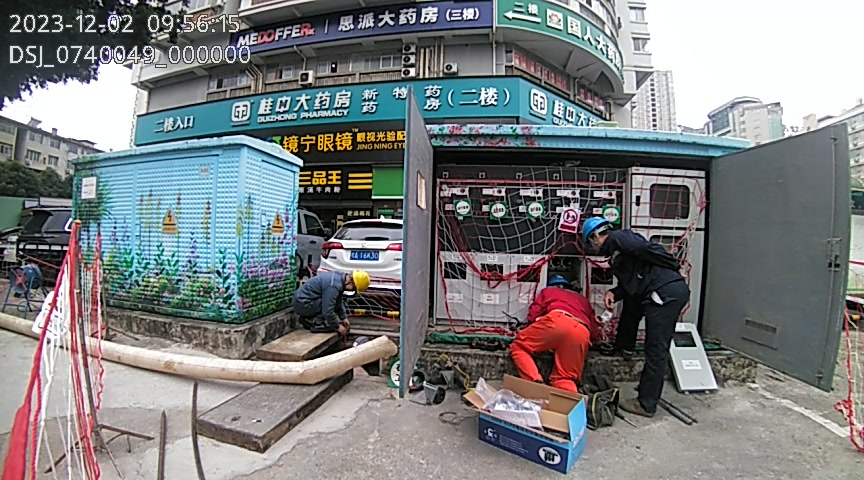downsuit: (616, 295, 686, 406)
halt: (583, 217, 613, 249), (347, 270, 373, 297)
hand: (602, 291, 615, 310)
person: (585, 216, 698, 419), (506, 270, 596, 388), (292, 267, 372, 336)
upcloth: (521, 286, 593, 320)
upsuit: (601, 230, 683, 290), (294, 268, 353, 322)
ydownsuit: (508, 311, 590, 393)
